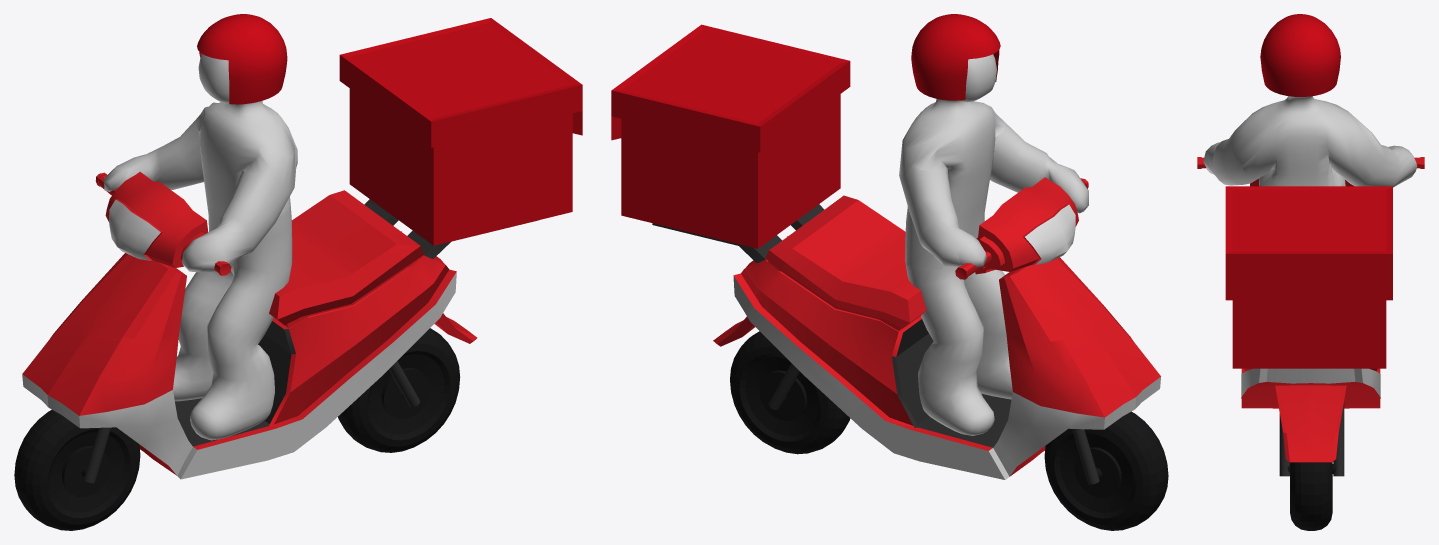
File: fs-motor.glb
The picture shows the model from 3 angles, left to right: view 1: azimuth 30°, elevation 25°; view 2: azimuth 150°, elevation 25°; view 3: azimuth 270°, elevation 25°; orthographic projection. The views are drawn at different scales.
Visible parts, largest first — view 1: Motor; view 2: Motor; view 3: Motor.
Part boxes in pixels (x1,y1,x2,y2): Motor: (14, 14, 582, 530); Motor: (611, 14, 1168, 530); Motor: (1197, 14, 1424, 530).
Bounding box in the file's own units: 0.4 × 0.3502 × 0.1662.
